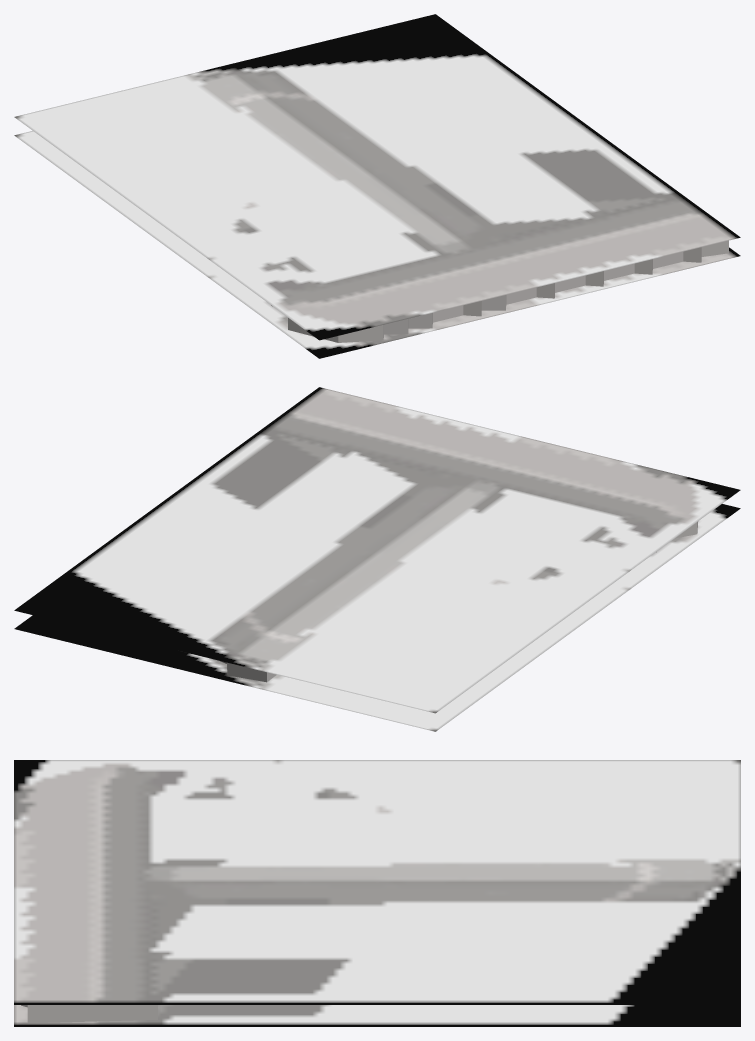
The model's file is pz_native_fixtures_railings_01_133_frame.obj.
3 renders of one model, top to bottom at view 1: azimuth 30°, elevation 25°; view 2: azimuth 150°, elevation 25°; view 3: azimuth 270°, elevation 25°, orthographic. The views are drawn at different scales.
Parts seen in each view (by area): view 1: pz_native_fixtures_railings_01_133_frame; view 2: pz_native_fixtures_railings_01_133_frame; view 3: pz_native_fixtures_railings_01_133_frame.
Part boxes in pixels (box(x1,y1,x2,y2)): pz_native_fixtures_railings_01_133_frame: box(14, 14, 740, 358); pz_native_fixtures_railings_01_133_frame: box(14, 387, 740, 731); pz_native_fixtures_railings_01_133_frame: box(14, 760, 740, 1026).
Bounding box in the file's own units: 1.08 × 0.045 × 1.35.
Materials: 1 (1 with a texture image).
